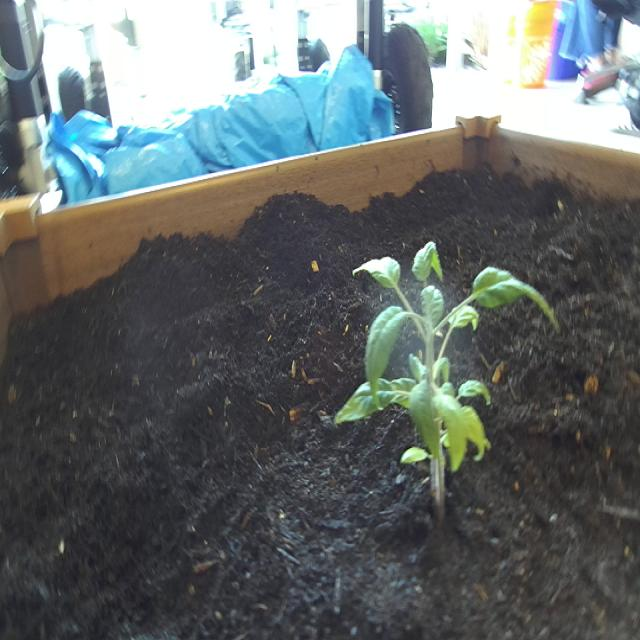Healthy: (328, 235, 566, 517)
